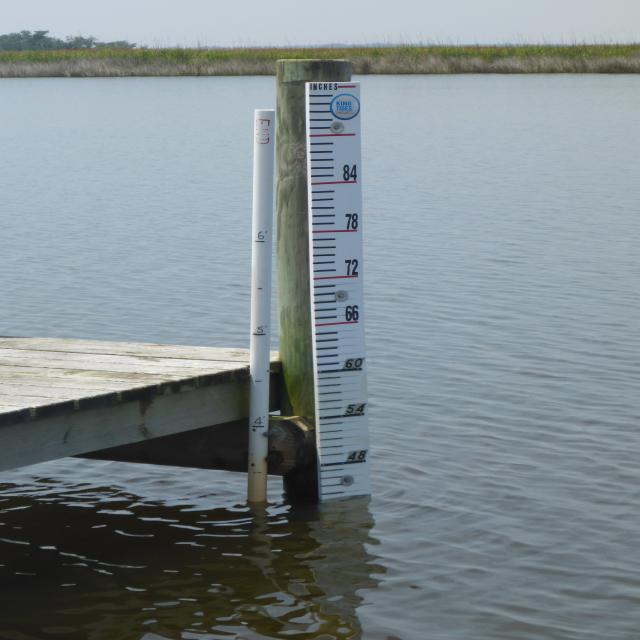ruler: (298, 74, 383, 506)
value: (341, 399, 370, 419), (336, 160, 361, 182), (342, 256, 364, 280), (343, 448, 372, 464), (342, 210, 362, 233), (342, 355, 367, 371), (342, 302, 361, 323)
